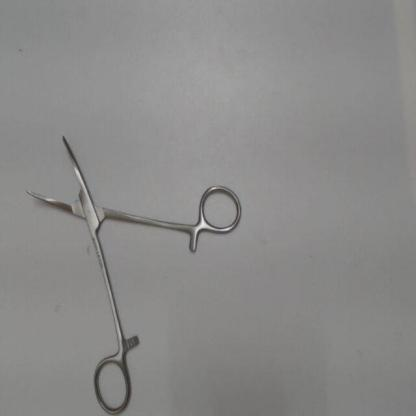Crile Artery Forceps: (18, 123, 245, 414)
